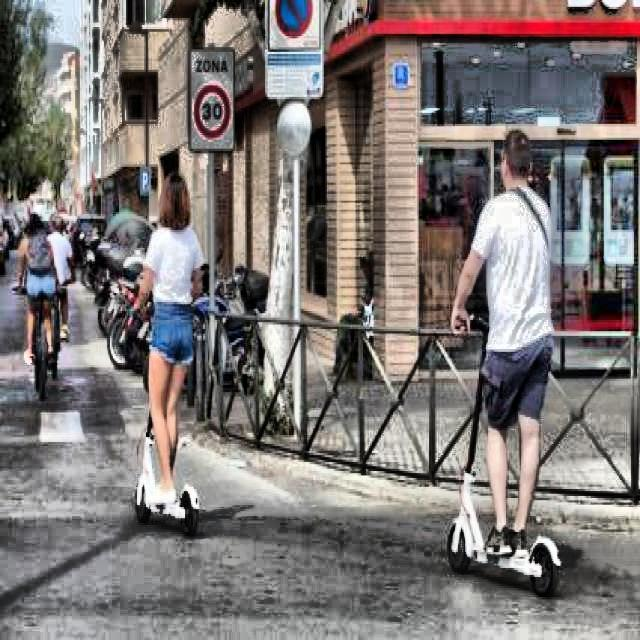bare_head: (481, 122, 560, 181), (156, 168, 206, 234)
human: (447, 100, 572, 555), (131, 149, 200, 504)
kickboard: (429, 487, 608, 605), (97, 470, 237, 533)
